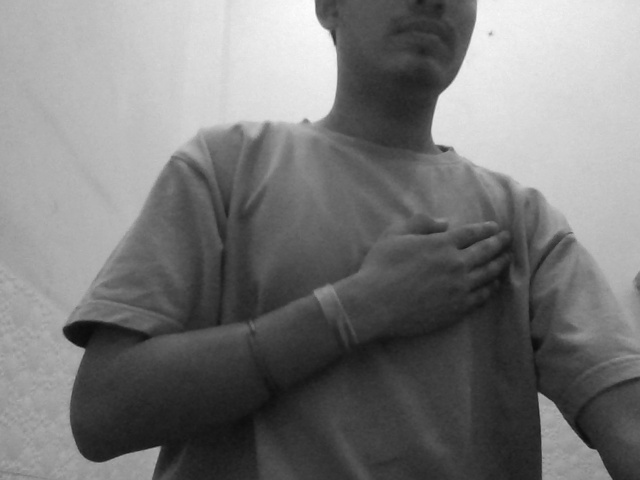Sorry: (320, 184, 572, 361)
